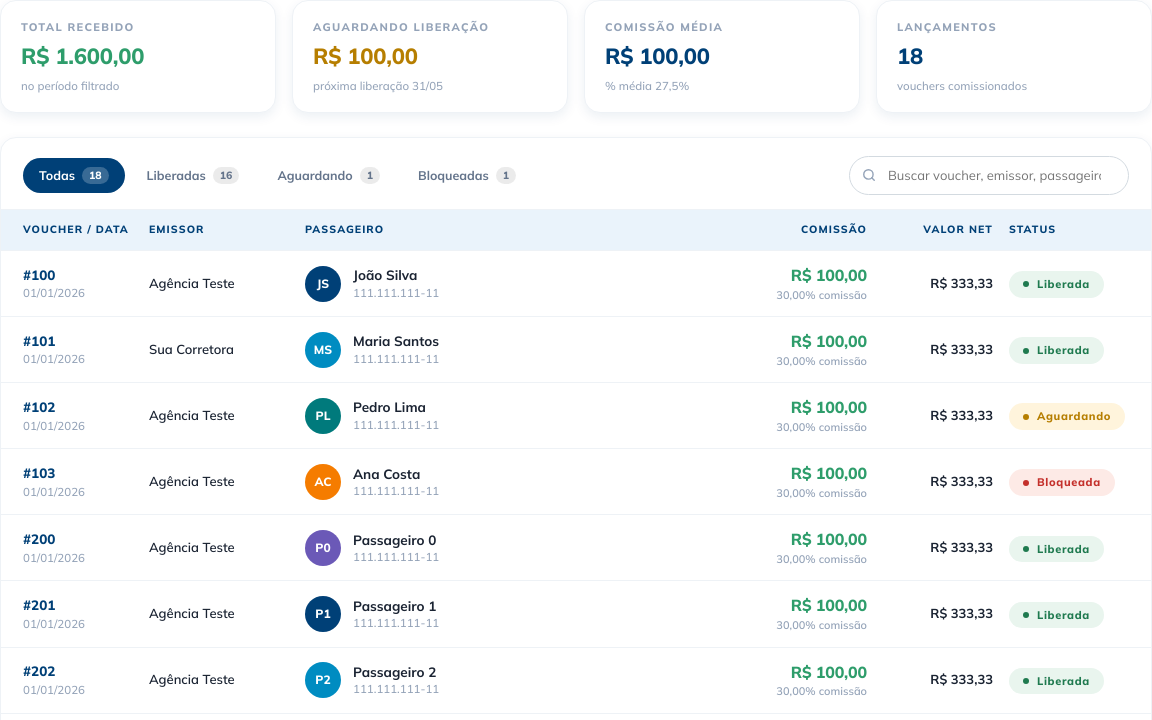
it: ComissoesListSection › filtrar por tab exibe apenas itens do status selecionado
Click the button "Aguardando 1".
click(329, 176)  # box 261,158 -> 396,193
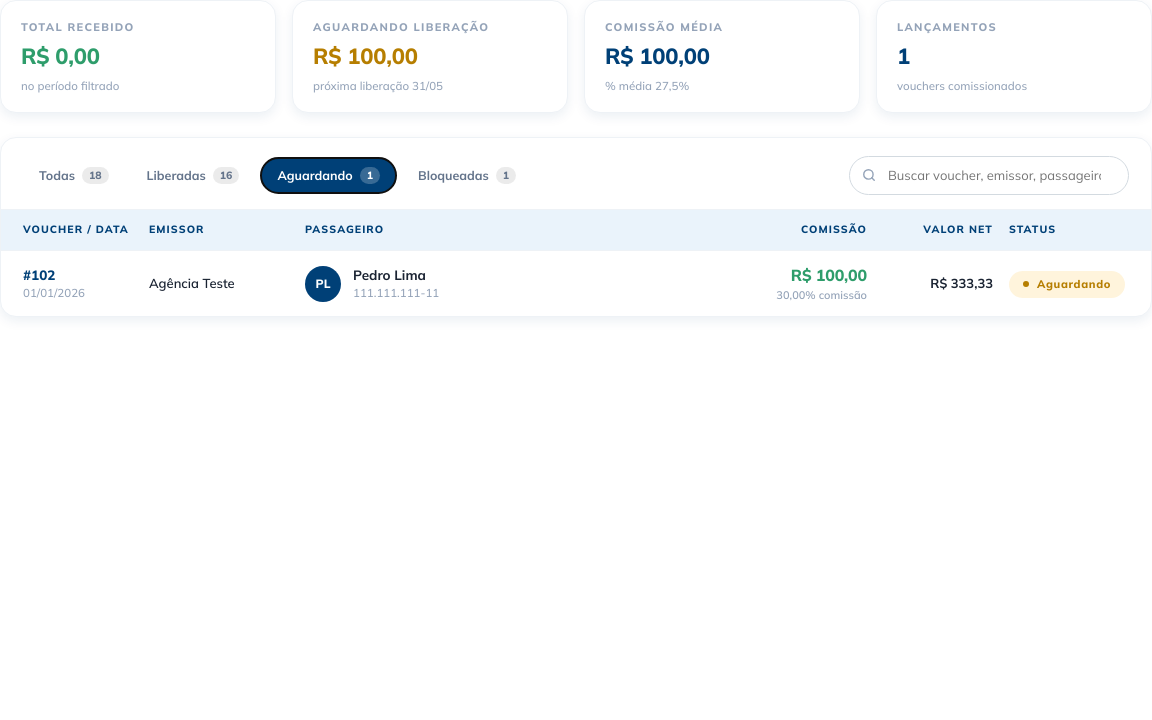
Expected: the text "#102" is shown, 23,266 -> 55,283
Expected: the text "#100" is gone
Expected: the text "#103" is gone
